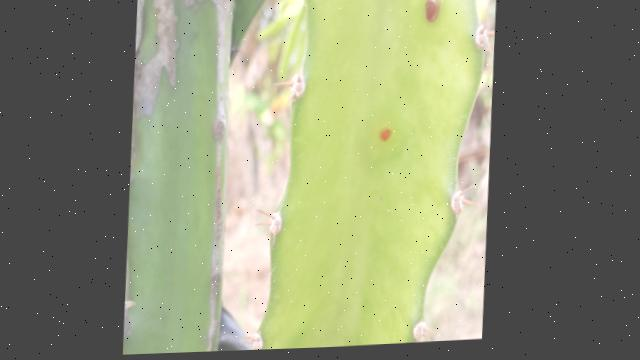stemcanker: (416, 1, 446, 25), (374, 120, 400, 146)
